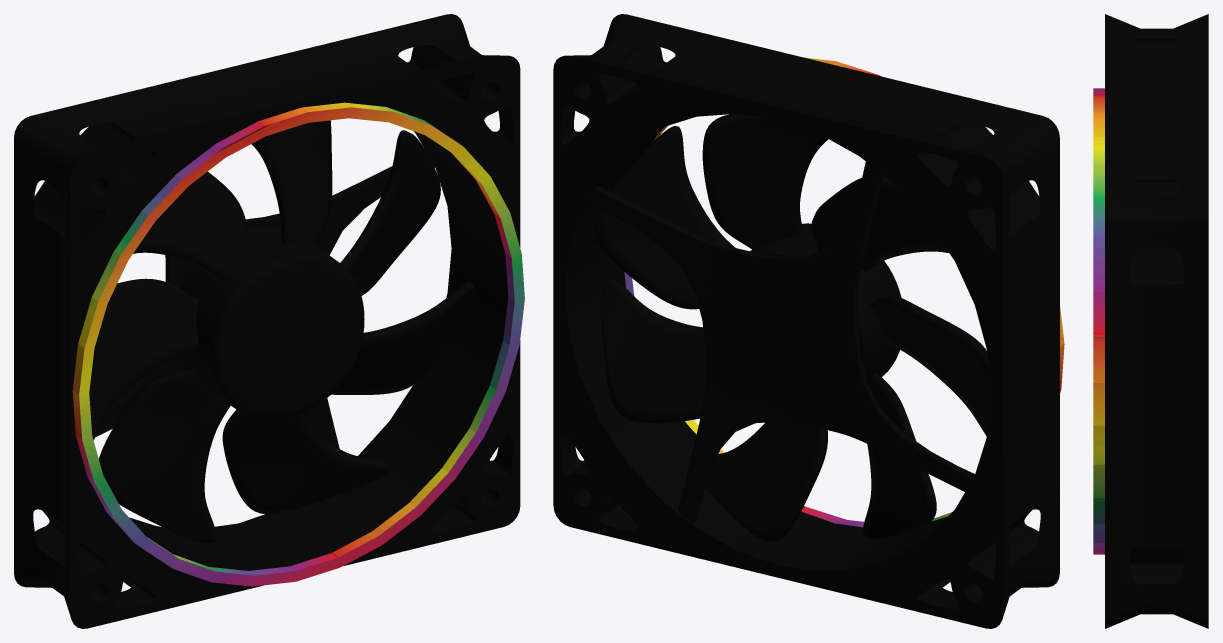
File: FAN_cooler_rbg.glb
3 views of the same model, side by side, from view 1: azimuth 30°, elevation 25°; view 2: azimuth 150°, elevation 25°; view 3: azimuth 270°, elevation 25° (orthographic). The views are drawn at different scales.
Parts seen in each view (by area): view 1: Cube, Plano.006, Cubo, object 5, Plano 2; view 2: Cube, Plano.006, Plano 2, Cubo, object 5; view 3: Cube, object 5.
Boxes of the visible parts, x1,y1,x2,y2 form: Cube: [14, 14, 520, 628]; Plano.006: [89, 120, 475, 543]; Cubo: [179, 226, 364, 418]; object 5: [72, 102, 524, 586]; Plano 2: [95, 149, 437, 448]; Cube: [553, 14, 1059, 628]; Plano.006: [594, 113, 990, 541]; Plano 2: [586, 161, 974, 522]; Cubo: [750, 223, 901, 382]; object 5: [624, 57, 1064, 527]; Cube: [1105, 14, 1208, 628]; object 5: [1093, 88, 1104, 554].
Bounding box in the file's own units: 2.39 × 2.39 × 0.5838.
Materials: 2 (1 with a texture image).
